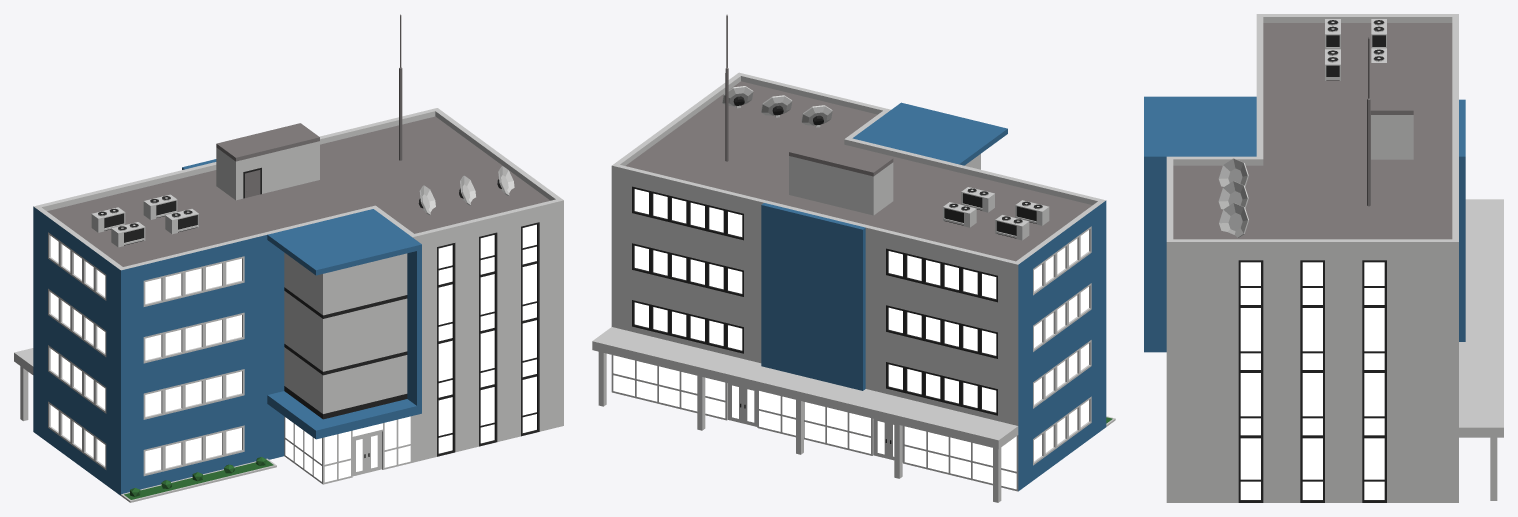
File: buildings-data-center.glb
3 renders of one model, left to right at view 1: azimuth 30°, elevation 25°; view 2: azimuth 150°, elevation 25°; view 3: azimuth 270°, elevation 25°, orthographic. The views are drawn at different scales.
Visible parts, largest first — view 1: data-center; view 2: data-center; view 3: data-center.
Boxes of the visible parts, bbox=[...] form: data-center: bbox=[14, 14, 563, 502]; data-center: bbox=[592, 14, 1115, 502]; data-center: bbox=[1144, 14, 1503, 502].
Bounding box in the file's own units: 24 × 20.79 × 16.
